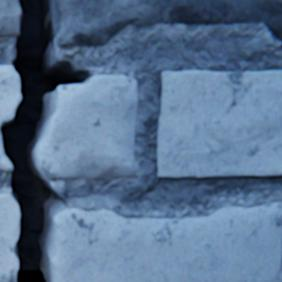brick: (156, 72, 281, 178)
broken_brick: (50, 203, 281, 281), (35, 76, 136, 181), (52, 0, 281, 46), (0, 195, 20, 281), (0, 67, 21, 127), (0, 0, 21, 37), (0, 133, 12, 172)
crack: (0, 0, 87, 281)
